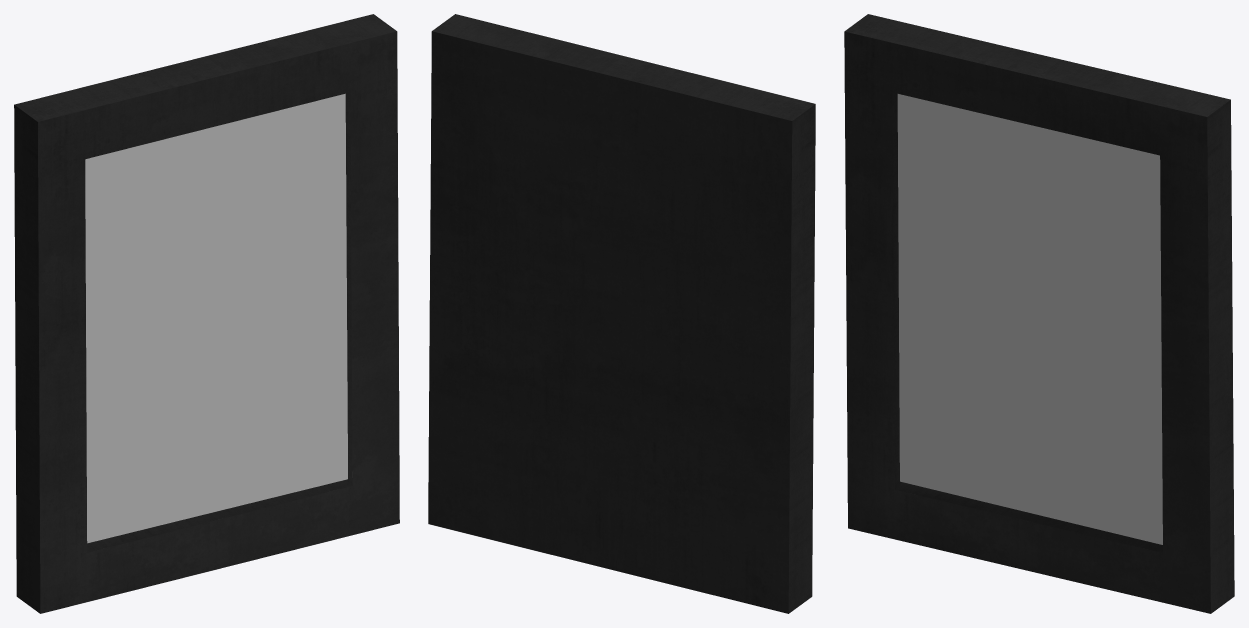
File: Kaigamdl_3.fbx
3 views of the same model, side by side, from view 1: azimuth 30°, elevation 25°; view 2: azimuth 150°, elevation 25°; view 3: azimuth 330°, elevation 25° (orthographic).
Visible parts, largest first — view 1: Kaiga3; view 2: Kaiga3; view 3: Kaiga3.
Part boxes in pixels (x1,y1,x2,y2): Kaiga3: (14, 14, 399, 613); Kaiga3: (428, 14, 815, 613); Kaiga3: (844, 14, 1234, 613).
Size of the model in its own units: 62.12 by 81.04 by 7.31.
